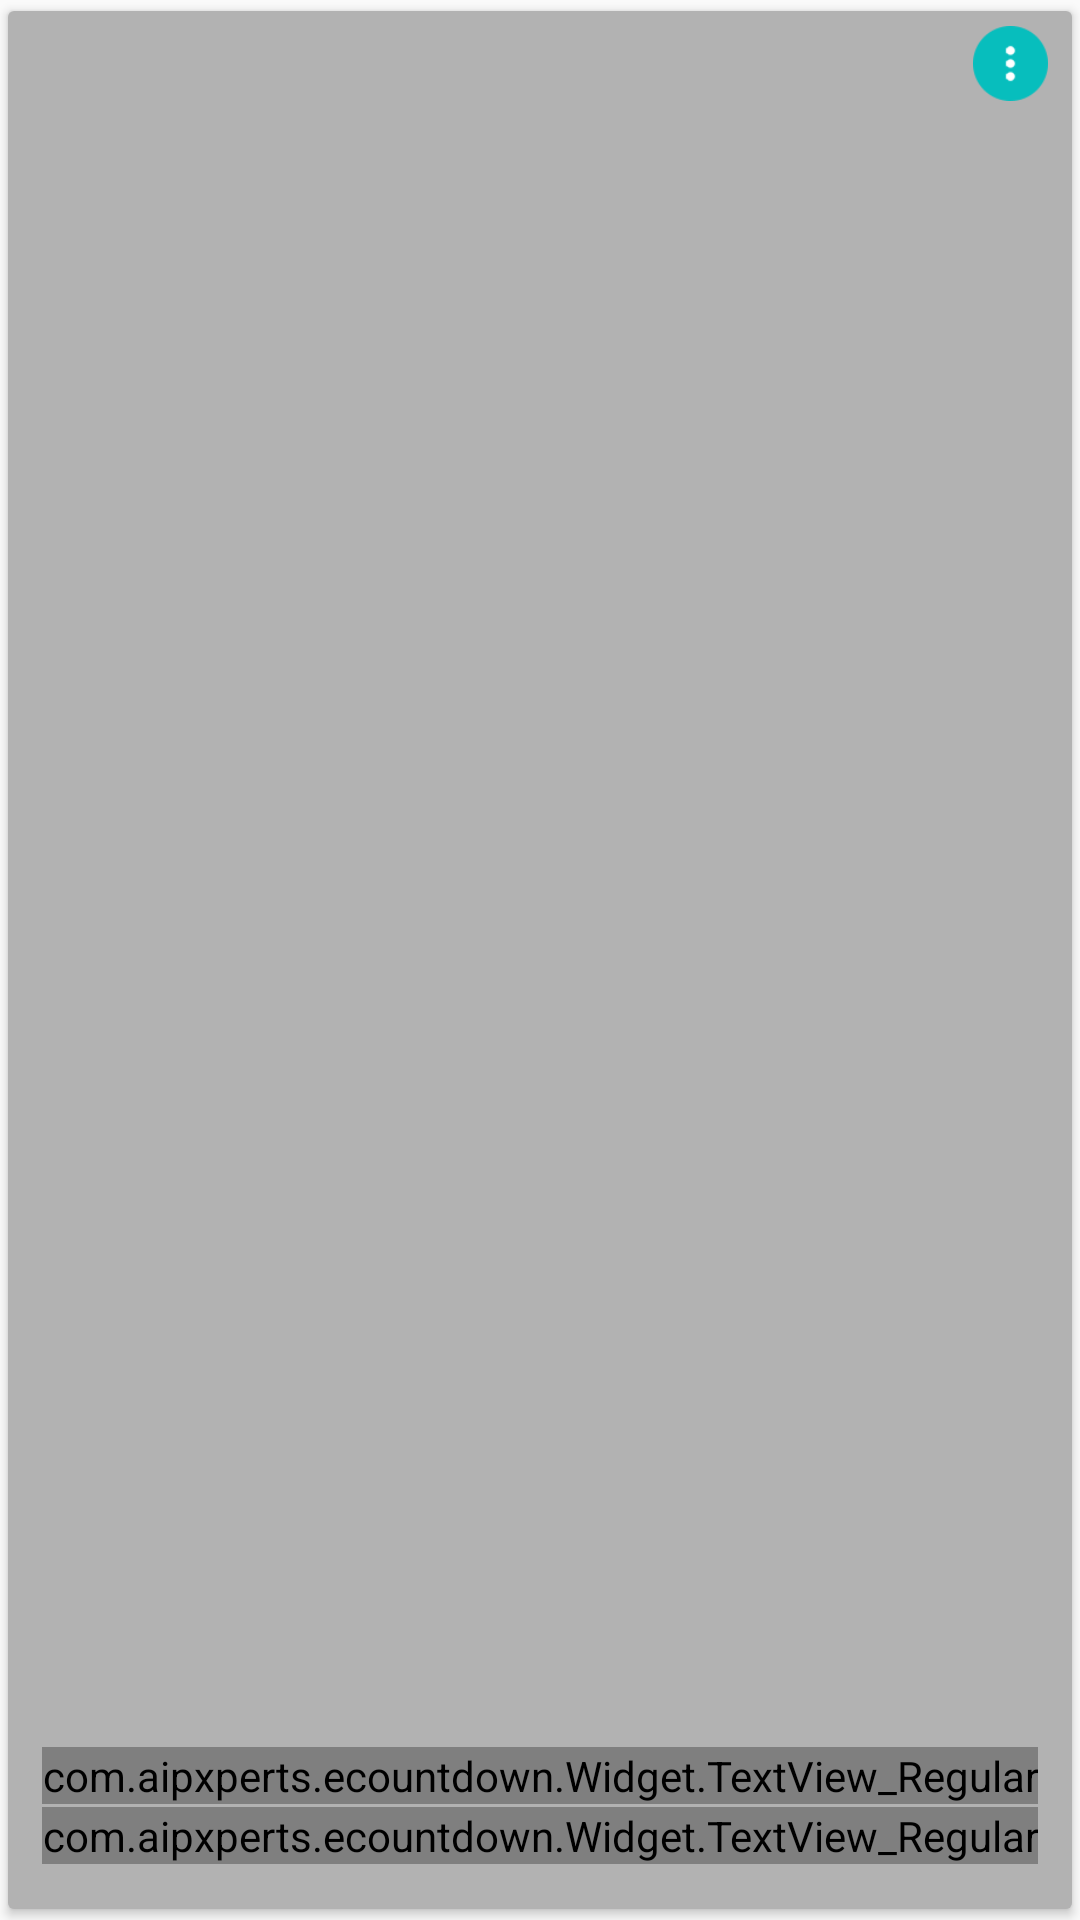

Icons on this 1080px x 1920px Android screen, each with the point to tap as (x,y):
more: (1010,63)
